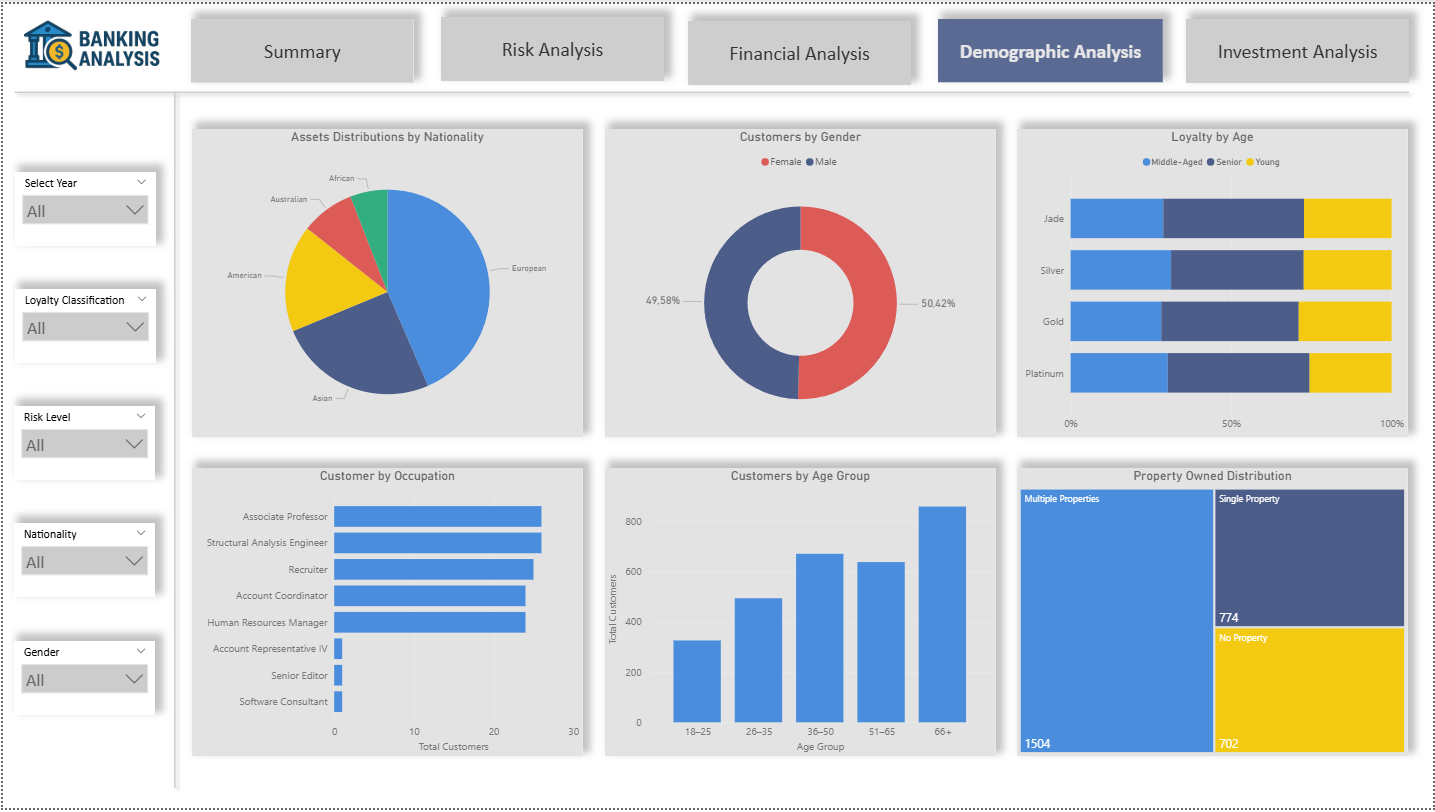

The dashboard page shown, as its layout file describes it:
{"tool":"powerbi","page":{"name":"Demographic Analysis","canvas":[1920,1080],"ordinal":3},"visuals":[{"type":"actionButton","title":"Risk_Inactive","box":[587.9,17.8,299.8,86],"z":0},{"type":"shape","title":"Vertical_Line","box":[208,108.4,45.2,953.6],"z":1000},{"type":"slicer","title":"Year_Slicer","fields":{"Values":["Dim_Year.Year Joined"]},"box":[16.5,225,189,100],"z":2000},{"type":"slicer","title":"Loyalty_Slicer","fields":{"Values":["Dim_Loyalty.Loyalty Classification"]},"box":[15.9,382.6,189.6,100],"z":3000},{"type":"slicer","title":"Risk_Slicer","fields":{"Values":["Dim_Risk.Risk Level"]},"box":[15.4,540.2,189.6,100],"z":4000},{"type":"slicer","title":"Nationalty_Slicer","fields":{"Values":["Dim_Nationality.Nationality"]},"box":[14.8,697.8,189.6,100],"z":5000},{"type":"slicer","title":"Gender_Slicer","fields":{"Values":["Dim_Gender.GenderId"]},"box":[14.3,855.4,189.6,100],"z":6000},{"type":"actionButton","title":"Financial_ Inactive","box":[920.2,23,299.8,86],"z":8000},{"type":"actionButton","title":"Investment_Inactive","box":[1589.3,20.3,299.8,86],"z":10000},{"type":"shape","title":"Horizontal_Line 01","box":[7.1,105.7,1891.3,25.3],"z":11000},{"type":"image","title":"Banking _Logo","box":[0.5,-2,240.7,125],"z":12000},{"type":"actionButton","title":"Summary_Inactive","box":[252.4,20.3,299.5,85.6],"z":14000},{"type":"clusteredColumnChart","title":"Customers by Age Group","fields":{"Category":["Dim_Age.Age Group"],"Y":["MeasuresTable.Total Customers"]},"box":[808.3,623,525.2,386.6],"z":16000},{"type":"barChart","title":"Customer by Occupation","fields":{"Category":["Banking.Occupation"],"Y":["MeasuresTable.Total Customers"]},"box":[253.9,623,525.2,386.6],"z":17000},{"type":"pieChart","title":"Assets Distributions by Nationality","fields":{"Category":["Dim_Nationality.Nationality"],"Y":["MeasuresTable.Total Customers"]},"box":[253.9,167.9,525.2,413.7],"z":18000},{"type":"donutChart","title":"Customers by Gender","fields":{"Y":["MeasuresTable.Total Customers"],"Category":["Banking.GenderId"]},"box":[808.3,167.8,525.2,414.3],"z":18002},{"type":"hundredPercentStackedBarChart","title":"Loyalty by Age","fields":{"Category":["Banking.Loyalty Classification"],"Series":["Dim_Age.Age Group Name"],"Y":["MeasuresTable.Total Customers"]},"box":[1362.7,167.8,525.2,414.3],"z":18003},{"type":"treemap","title":"Property Owned Distribution","fields":{"Values":["MeasuresTable.Total Customers"],"Group":["Banking.Clients by Property Count"]},"box":[1362.7,623,525.2,386.6],"z":18004},{"type":"actionButton","title":"Demographic_Active","box":[1255.4,20.6,302.1,85.5],"z":18005}]}

Visuals, with their boxes in screenshot pixels (x1, y1, x2, y2), scaled from the page's 1920x1080 canvas onto the 1435x812 screenshot:
"Risk_Inactive" actionButton: 439, 13, 663, 78
"Vertical_Line" shape: 155, 82, 189, 798
"Year_Slicer" slicer: 12, 169, 154, 244
"Loyalty_Slicer" slicer: 12, 288, 154, 363
"Risk_Slicer" slicer: 12, 406, 153, 481
"Nationalty_Slicer" slicer: 11, 525, 153, 600
"Gender_Slicer" slicer: 11, 643, 152, 718
"Financial_ Inactive" actionButton: 688, 17, 912, 82
"Investment_Inactive" actionButton: 1188, 15, 1412, 80
"Horizontal_Line 01" shape: 5, 79, 1419, 98
"Banking _Logo" image: 0, 0, 180, 92
"Summary_Inactive" actionButton: 189, 15, 412, 80
"Customers by Age Group" clusteredColumnChart: 604, 468, 997, 759
"Customer by Occupation" barChart: 190, 468, 582, 759
"Assets Distributions by Nationality" pieChart: 190, 126, 582, 437
"Customers by Gender" donutChart: 604, 126, 997, 438
"Loyalty by Age" hundredPercentStackedBarChart: 1018, 126, 1411, 438
"Property Owned Distribution" treemap: 1018, 468, 1411, 759
"Demographic_Active" actionButton: 938, 15, 1164, 80
